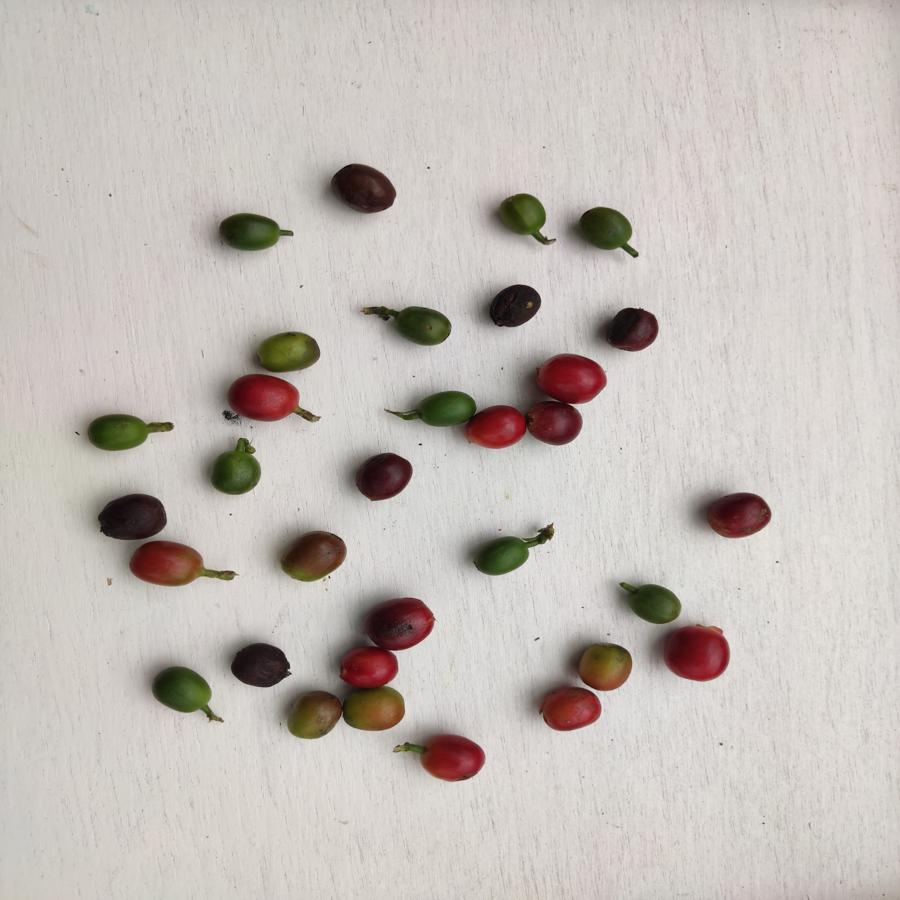Inmaduro: (147, 664, 214, 717), (214, 211, 282, 254), (575, 206, 635, 253), (86, 412, 150, 456), (208, 449, 264, 497), (395, 305, 455, 348), (493, 192, 547, 239), (419, 386, 477, 429), (473, 537, 531, 577), (629, 582, 680, 620)
Maduro: (658, 621, 741, 687), (532, 351, 608, 403), (225, 374, 301, 424), (417, 734, 486, 781), (538, 687, 606, 731), (464, 405, 529, 451), (339, 648, 399, 687)
Pinton: (127, 541, 206, 588), (277, 530, 348, 582), (341, 686, 409, 734), (253, 330, 324, 373), (578, 638, 634, 692), (288, 687, 341, 740)
Sobremaduro: (330, 163, 405, 220), (363, 595, 438, 651), (483, 283, 550, 334), (706, 490, 773, 541), (98, 492, 169, 539), (351, 451, 414, 503), (606, 305, 662, 360), (229, 643, 293, 690), (526, 400, 583, 446)
